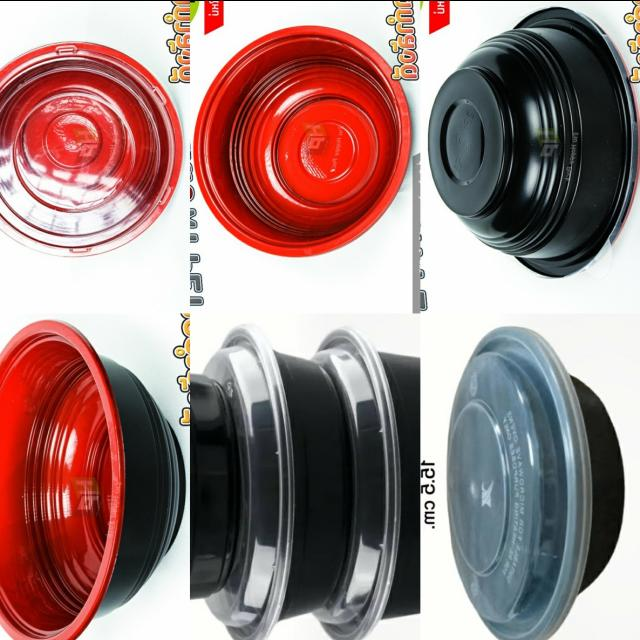plastik: (0, 319, 184, 640), (428, 6, 638, 276), (447, 326, 624, 640), (194, 25, 410, 256), (192, 325, 350, 640), (0, 41, 182, 256), (313, 328, 420, 640), (190, 373, 238, 598)
